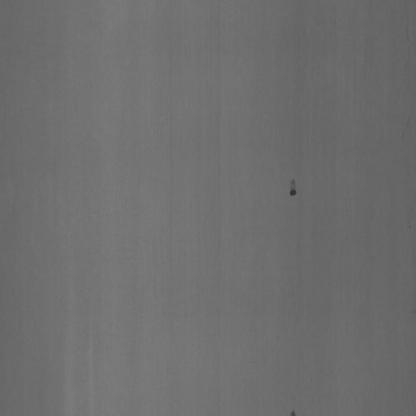inclusion: (288, 176, 298, 200), (288, 409, 297, 416)
